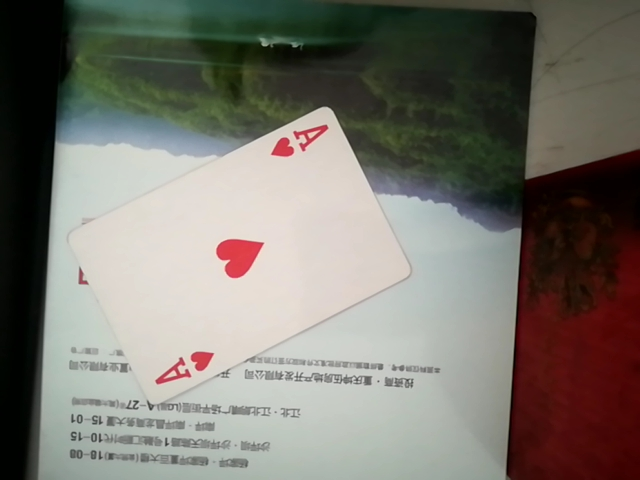hx a: (69, 103, 404, 397)
